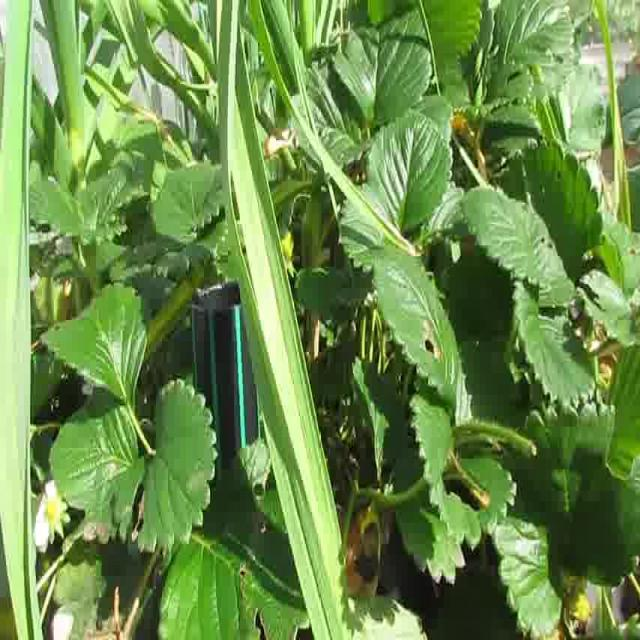Fruta sana: (562, 584, 592, 620), (532, 618, 566, 640), (278, 228, 294, 256), (47, 501, 58, 522)
